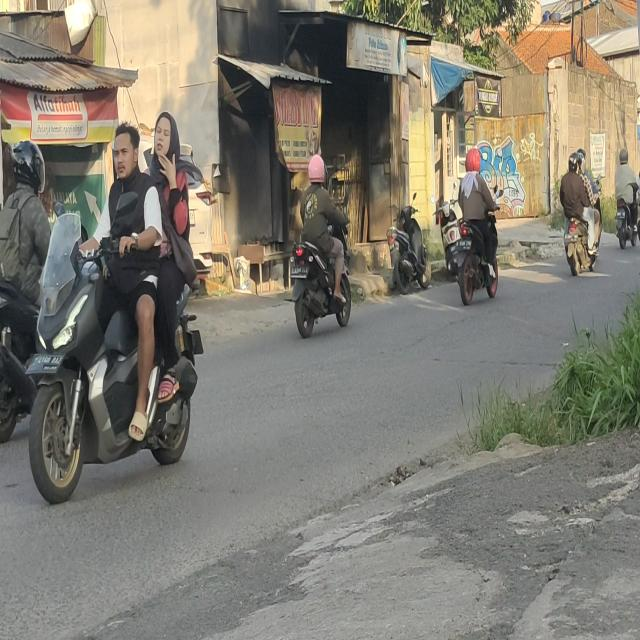helmet: (15, 138, 46, 186), (308, 154, 326, 184), (465, 146, 484, 173), (570, 151, 580, 177), (578, 146, 586, 173), (619, 148, 629, 165)
no-helmet: (114, 128, 138, 176), (155, 112, 177, 156)
